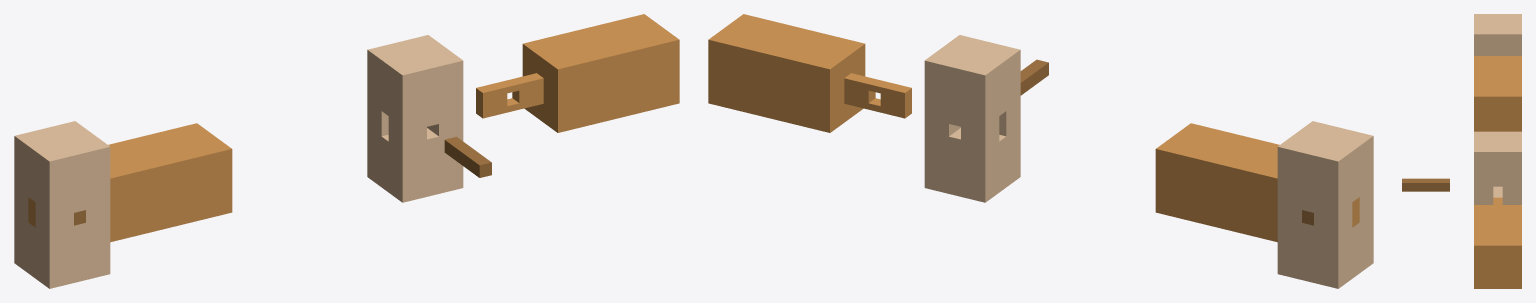
The picture shows the model from 3 angles, left to right: view 1: azimuth 30°, elevation 25°; view 2: azimuth 150°, elevation 25°; view 3: azimuth 270°, elevation 25°; orthographic projection. The views are drawn at different scales.
Bounding box in the file's own units: 20.7 × 4 × 5.
